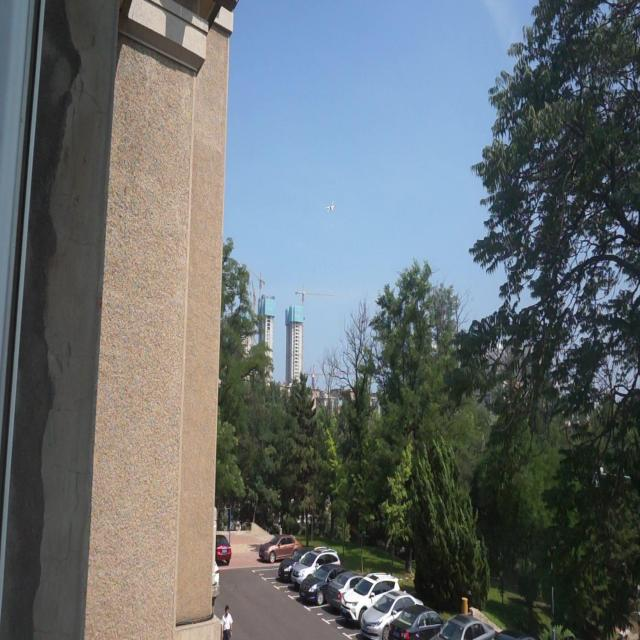UAV: (325, 201, 335, 213)
